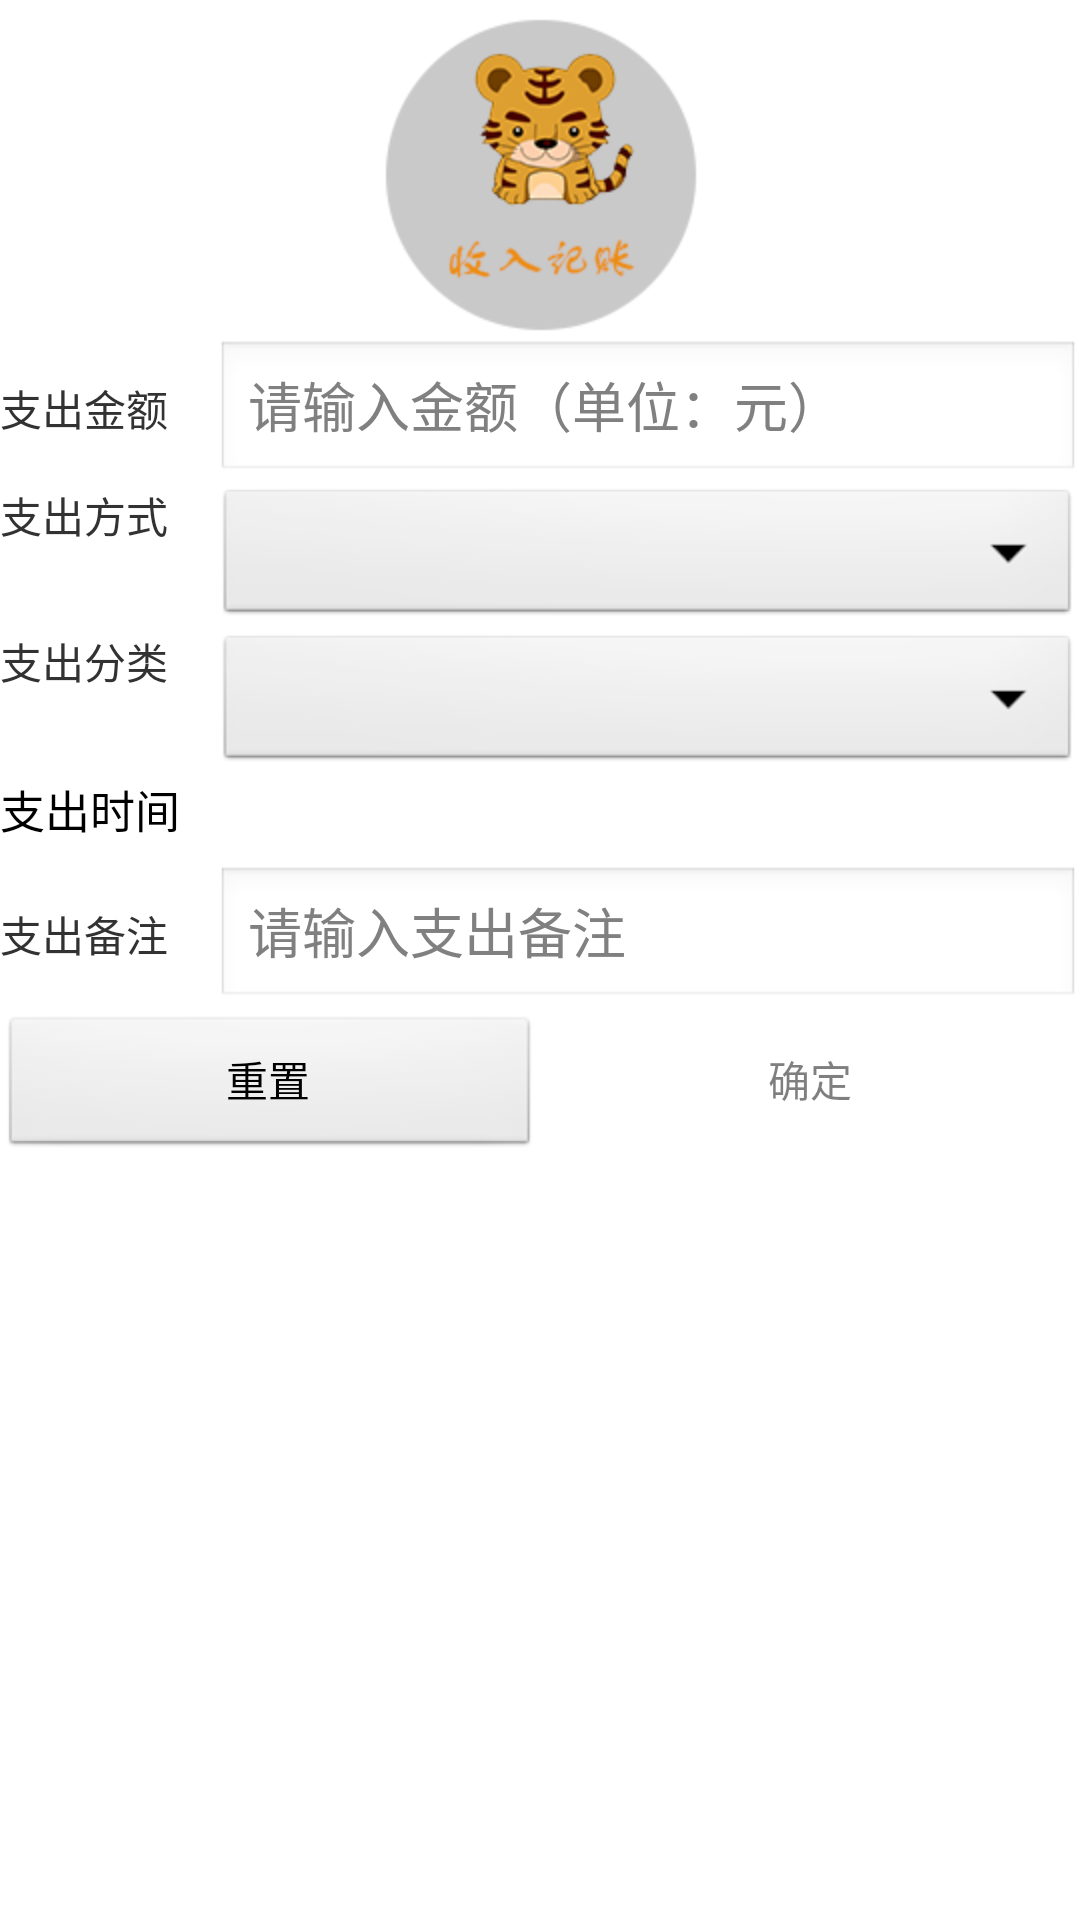

Where to tap for icons on this 1080w x 1920h app screen, as [x,y]:
xiaohu shouru: [541,175]
